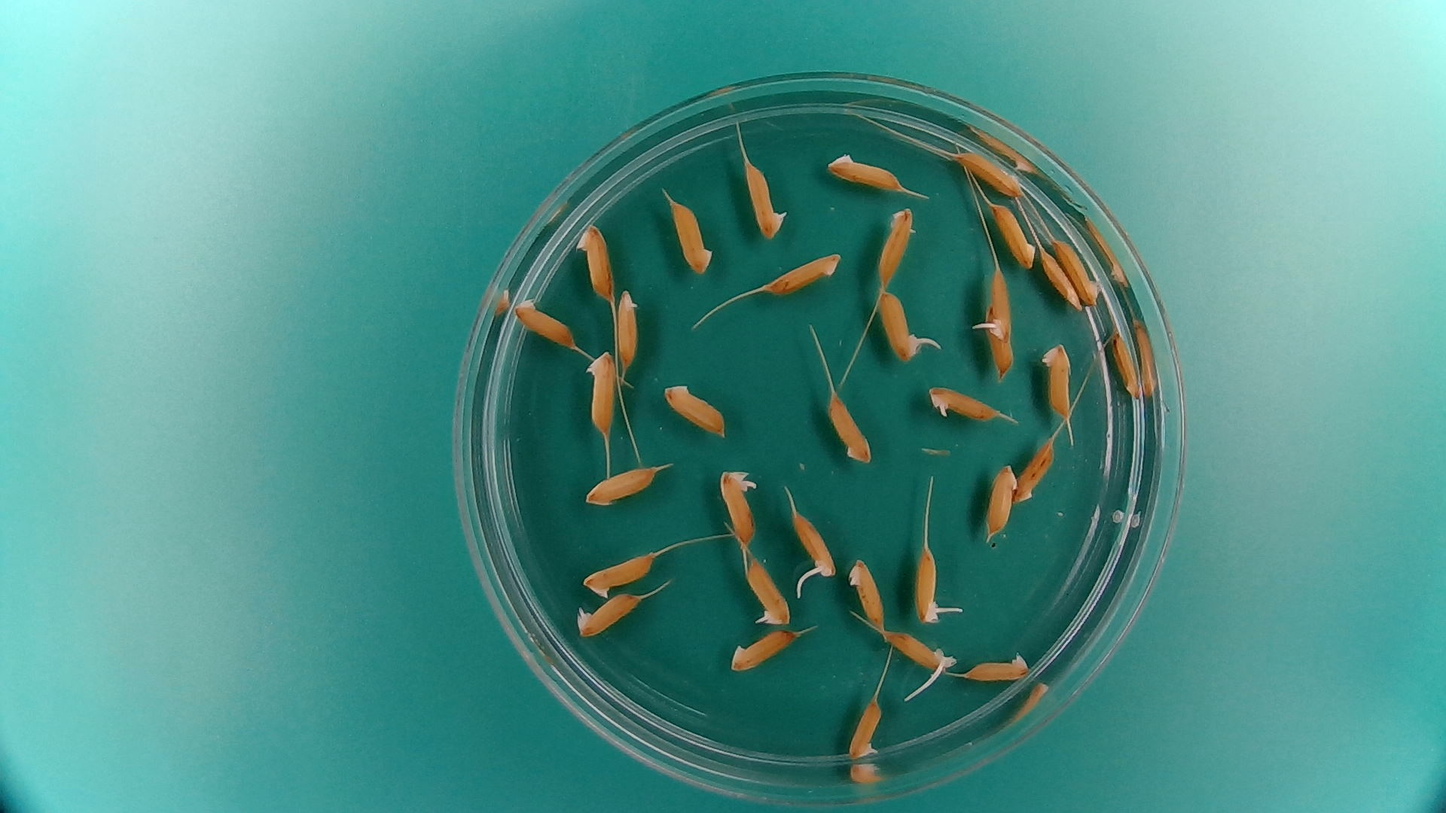no: (664, 190, 715, 277), (821, 147, 911, 192), (660, 382, 731, 439), (762, 249, 846, 297), (825, 388, 874, 467), (582, 461, 664, 507), (987, 199, 1039, 271), (951, 148, 1024, 199), (573, 218, 616, 303), (874, 203, 917, 288), (579, 550, 656, 597), (514, 298, 581, 352), (728, 628, 804, 674), (1052, 236, 1100, 308), (1037, 245, 1084, 313), (1038, 340, 1076, 421), (846, 555, 887, 630), (584, 347, 618, 437), (1014, 433, 1057, 504), (984, 461, 1018, 542), (1106, 330, 1142, 399), (615, 285, 642, 373), (962, 656, 1031, 682), (983, 317, 1009, 383)
yes: (744, 556, 792, 629), (792, 505, 838, 581), (716, 467, 758, 549), (574, 591, 645, 639), (877, 288, 921, 363), (880, 633, 947, 680), (743, 161, 782, 239), (932, 385, 1008, 422), (978, 266, 1014, 341), (844, 694, 883, 760), (912, 547, 941, 626)
